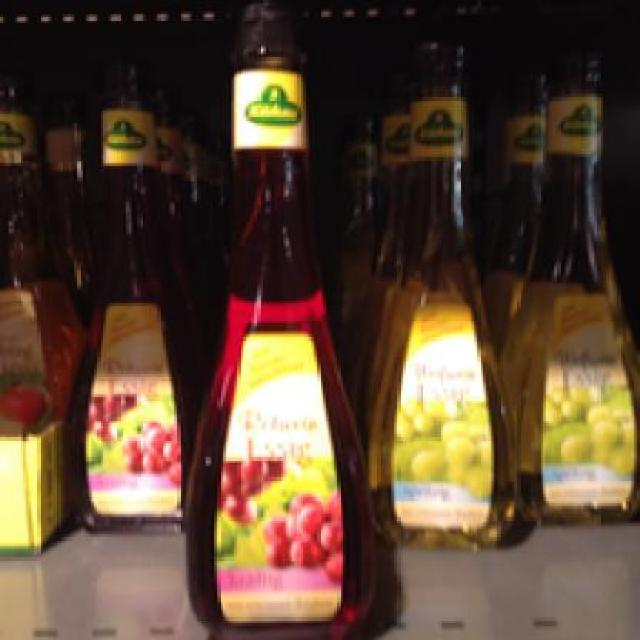Vinegar: (179, 36, 395, 630), (371, 80, 524, 546), (505, 88, 638, 524), (62, 102, 192, 528)
